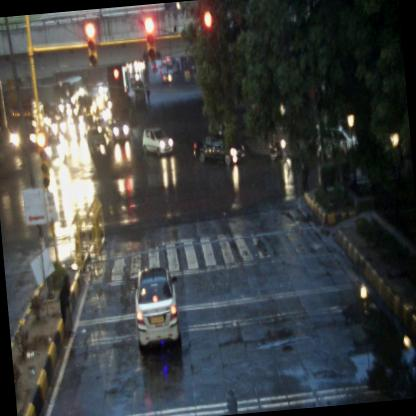bus: (59, 73, 85, 104)
car: (132, 264, 184, 356), (194, 132, 244, 168), (141, 124, 174, 156)
